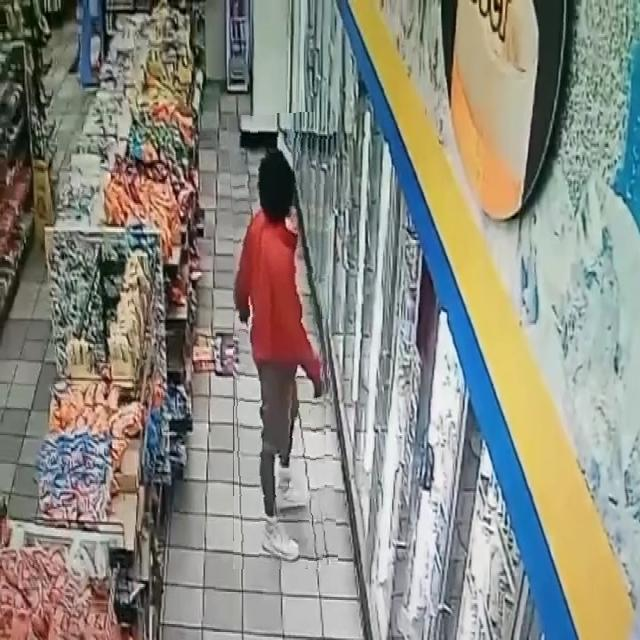normal: (233, 113, 333, 569)
